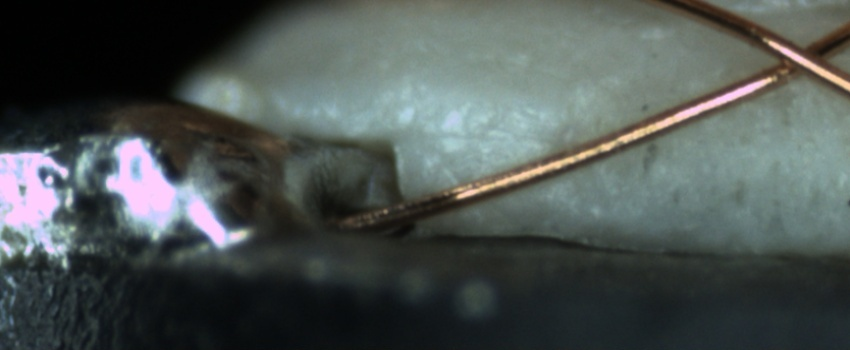CL: (742, 20, 846, 92)
DL: (421, 106, 562, 166)
